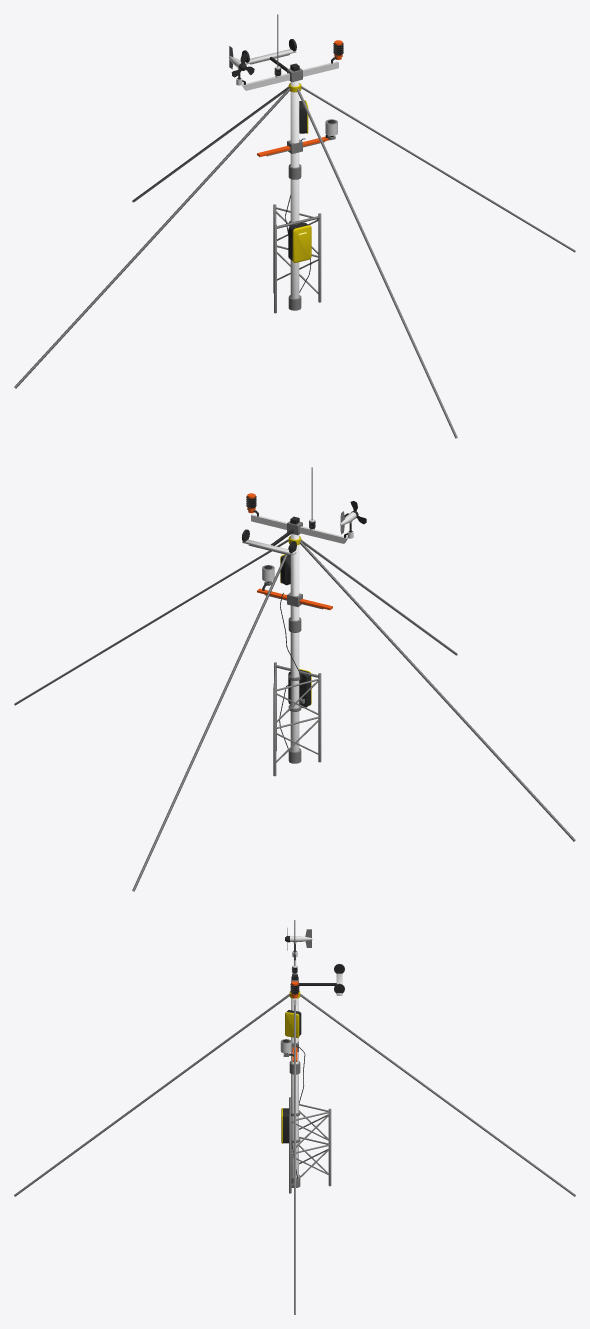
The model's file is wheatherInstument.fbx.
3 views of the same model, one above another, from view 1: azimuth 30°, elevation 25°; view 2: azimuth 150°, elevation 25°; view 3: azimuth 270°, elevation 25° (orthographic). The views are drawn at different scales.
Visible parts, largest first — view 1: Cylinder.067; view 2: Cylinder.067; view 3: Cylinder.067.
Part boxes in pixels (bbox=[...]): Cylinder.067: bbox=[14, 14, 575, 438]; Cylinder.067: bbox=[14, 467, 575, 891]; Cylinder.067: bbox=[14, 920, 575, 1314].
Size of the model in its own units: 1078 by 570 by 1078.
